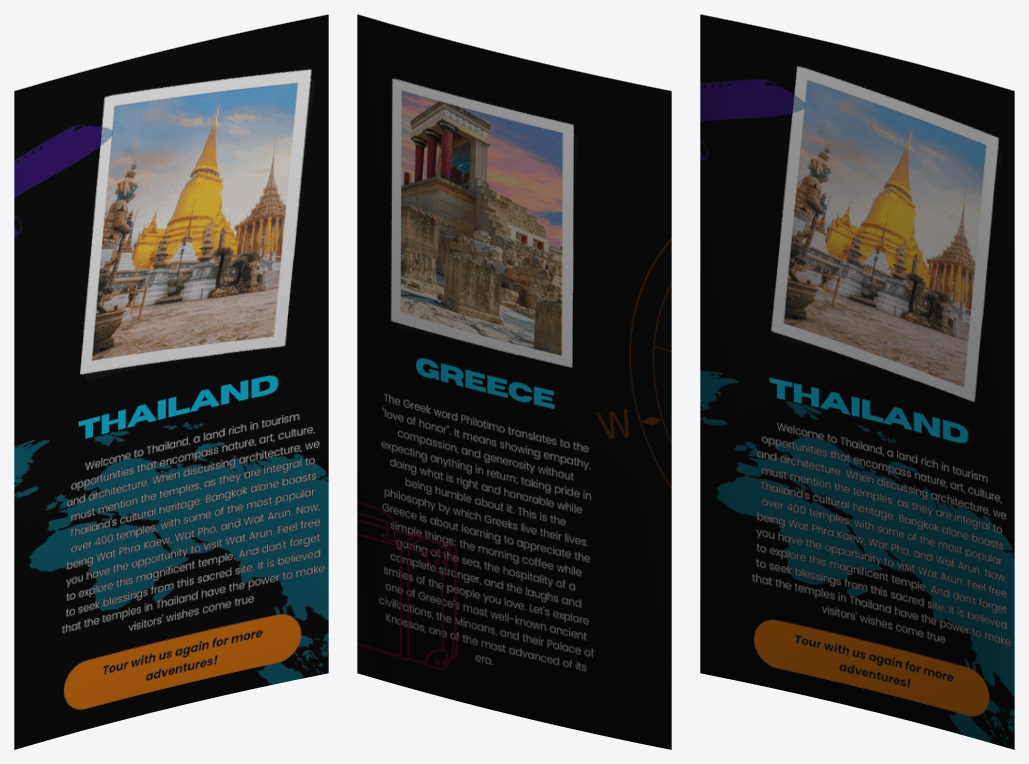
Rendered from mdl_hub_pamphletcenter.gltf.
3 views of the same model, side by side, from view 1: azimuth 30°, elevation 25°; view 2: azimuth 150°, elevation 25°; view 3: azimuth 330°, elevation 25° (orthographic).
Parts seen in each view (by area): view 1: Center; view 2: Center; view 3: Center.
Part boxes in pixels (x1,y1,x2,y2): Center: (14, 14, 328, 749); Center: (357, 14, 671, 749); Center: (700, 14, 1014, 749).
Bounding box in the file's own units: 0.1873 × 0.375 × 0.00422.
Materials: 2 (2 with a texture image).
